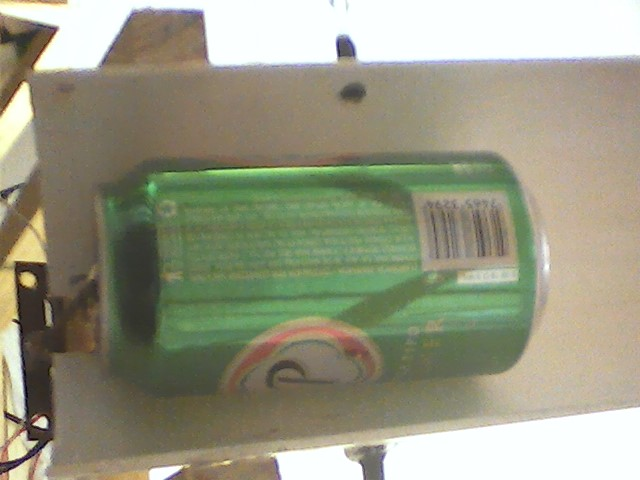lata: (85, 148, 559, 410)
